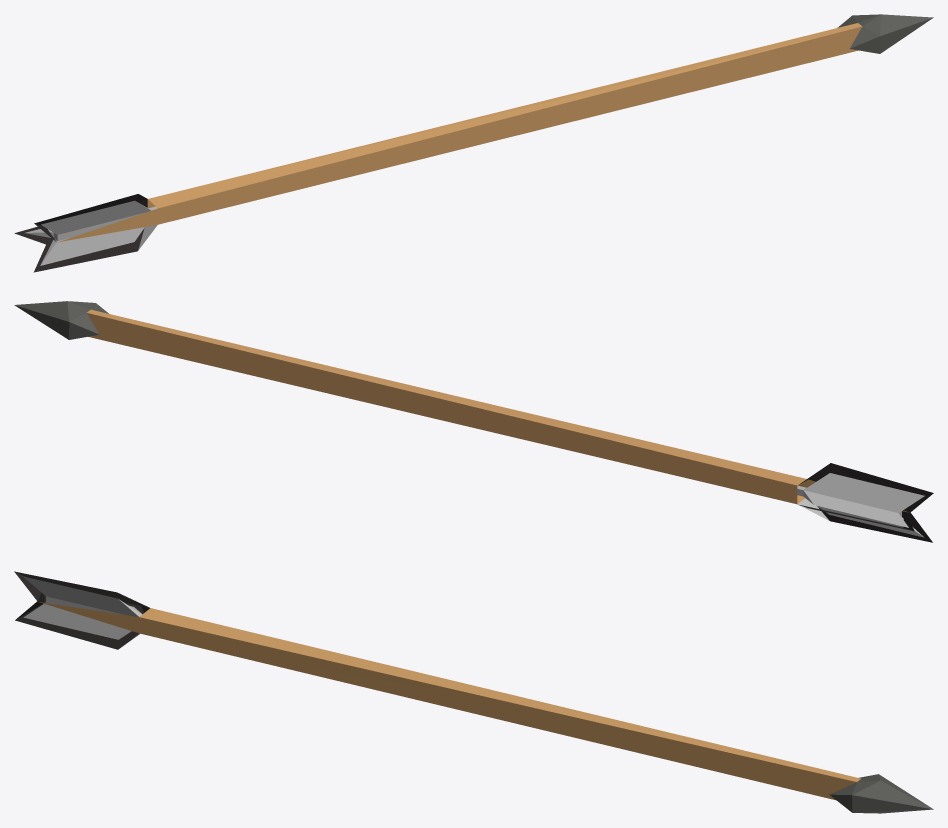
The model's file is Arrow 1.fbx.
3 views of the same model, one above another, from view 1: azimuth 30°, elevation 25°; view 2: azimuth 150°, elevation 25°; view 3: azimuth 330°, elevation 25° (orthographic).
Visible parts, largest first — view 1: Arrow; view 2: Arrow; view 3: Arrow.
Part boxes in pixels (box(x1,y1,x2,y2)): Arrow: box(14, 14, 933, 272); Arrow: box(14, 301, 933, 542); Arrow: box(14, 571, 933, 813).
Size of the model in its own units: 137 by 8.32 by 7.13.
